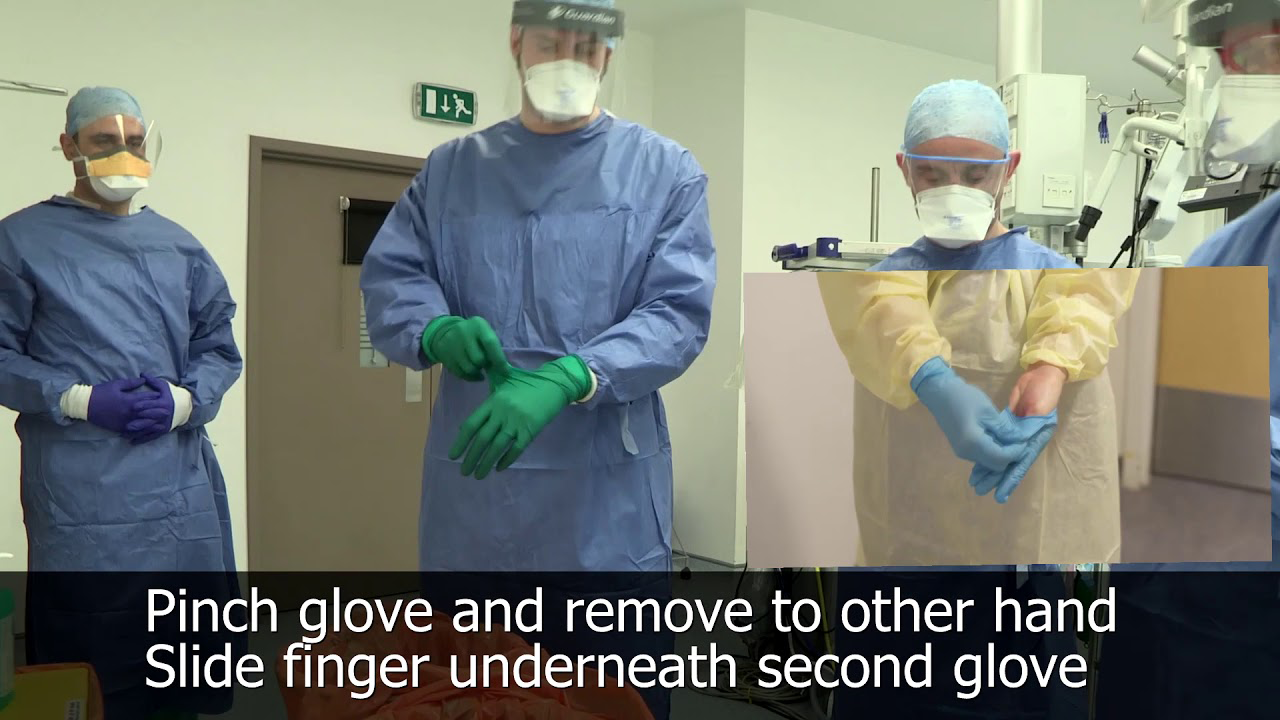Coverall: (412, 130, 690, 565), (11, 205, 215, 568)
Gloves: (913, 356, 1057, 499), (442, 360, 599, 484), (87, 372, 194, 448), (420, 294, 506, 380)
with_mask: (914, 164, 998, 251), (522, 32, 596, 120), (85, 135, 150, 204)
